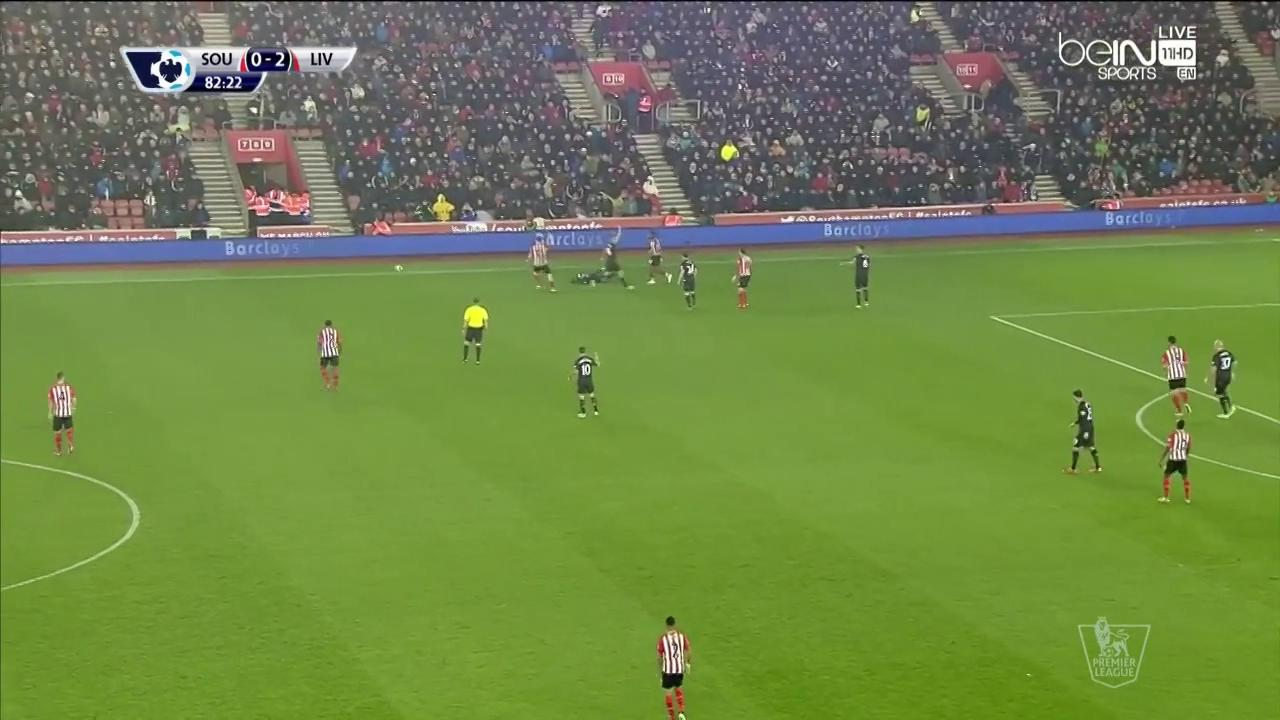football: (393, 262, 404, 275)
